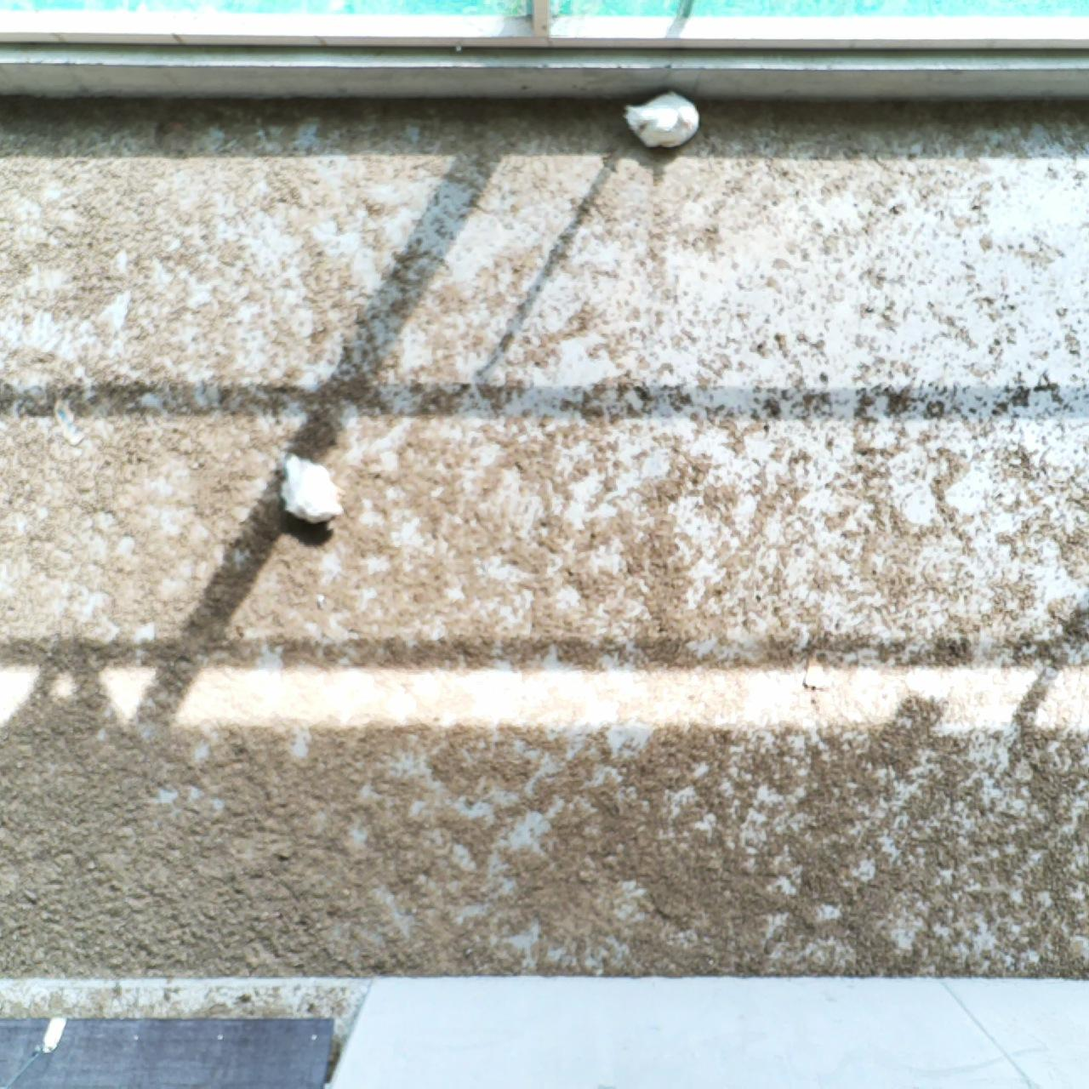chicken: (620, 82, 704, 153), (278, 451, 348, 528)
